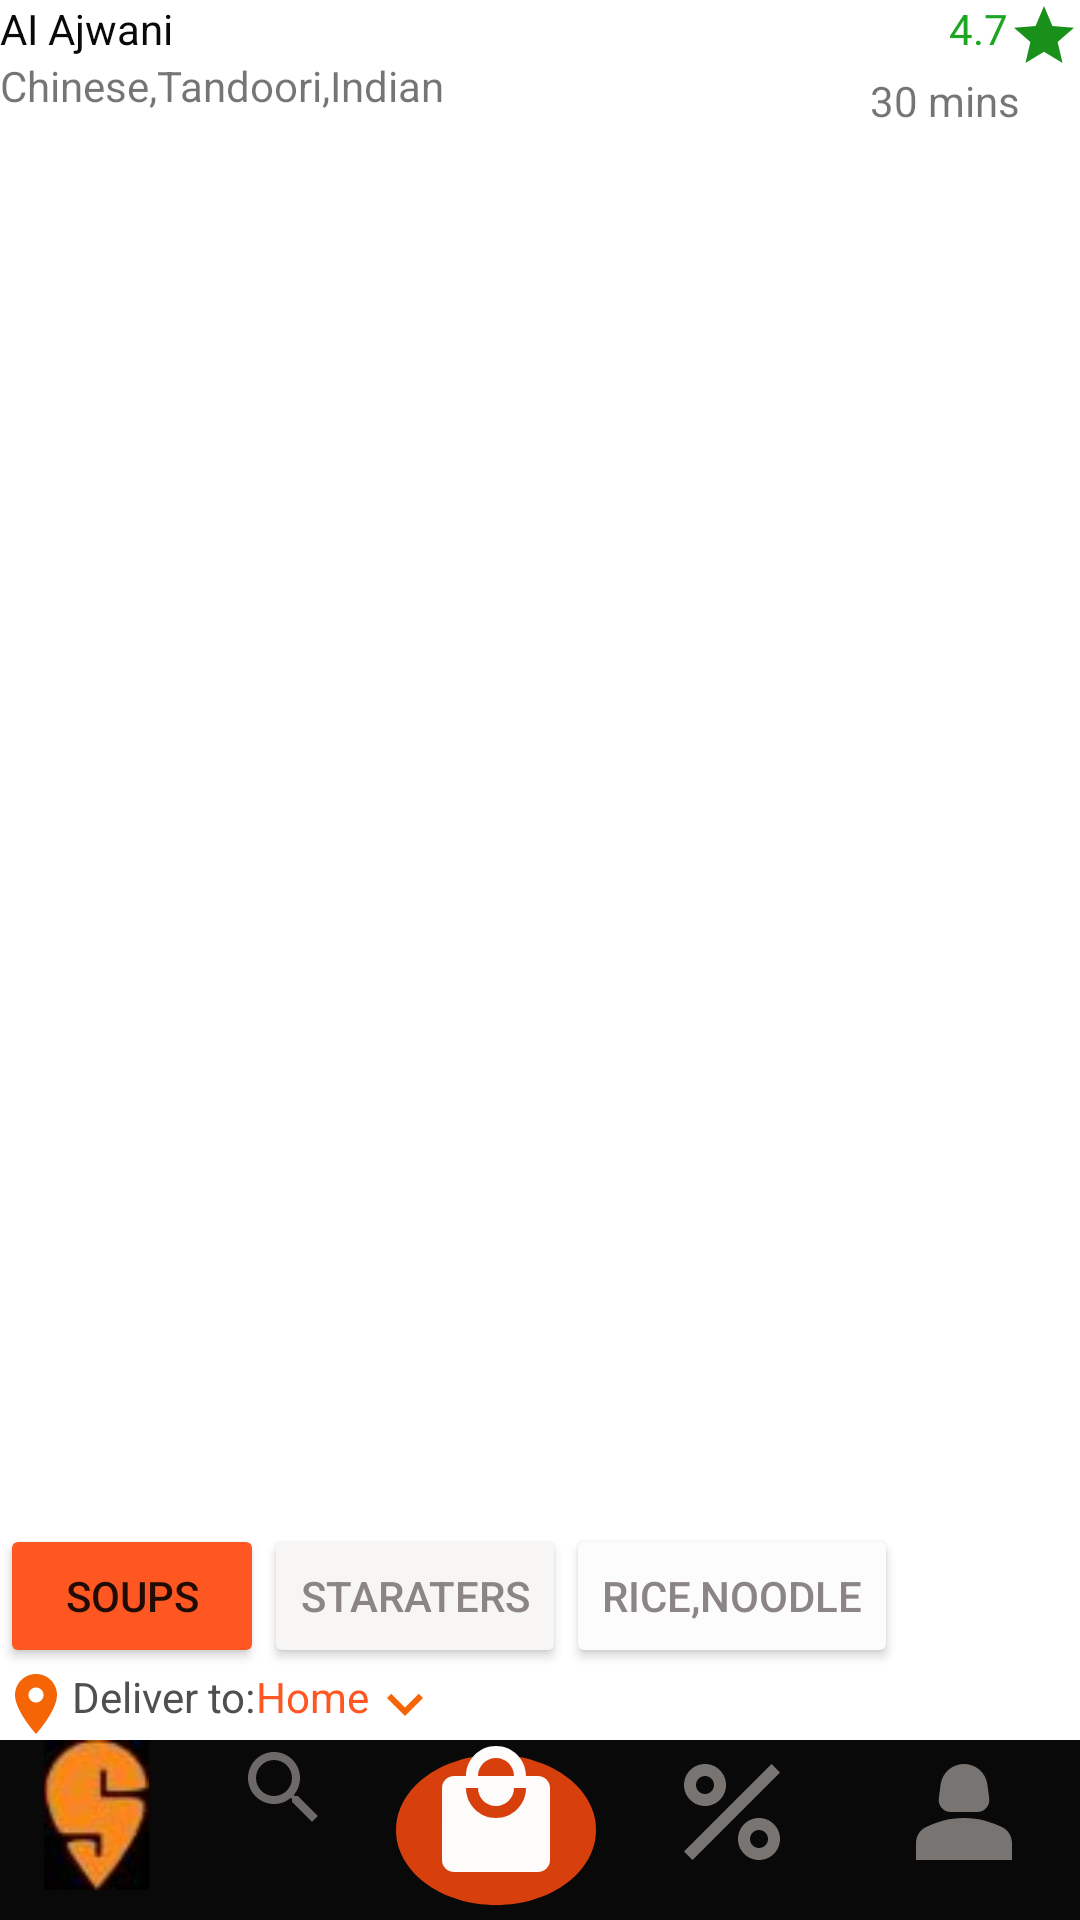

Named icons in this screenshot (1080px×1920px) and their centers, point (x, y):
expand more: point (405, 1705)
local mall: point (496, 1812)
location on: point (36, 1704)
percent: point (732, 1812)
person: point (964, 1812)
search: point (283, 1787)
star: point (1044, 34)
